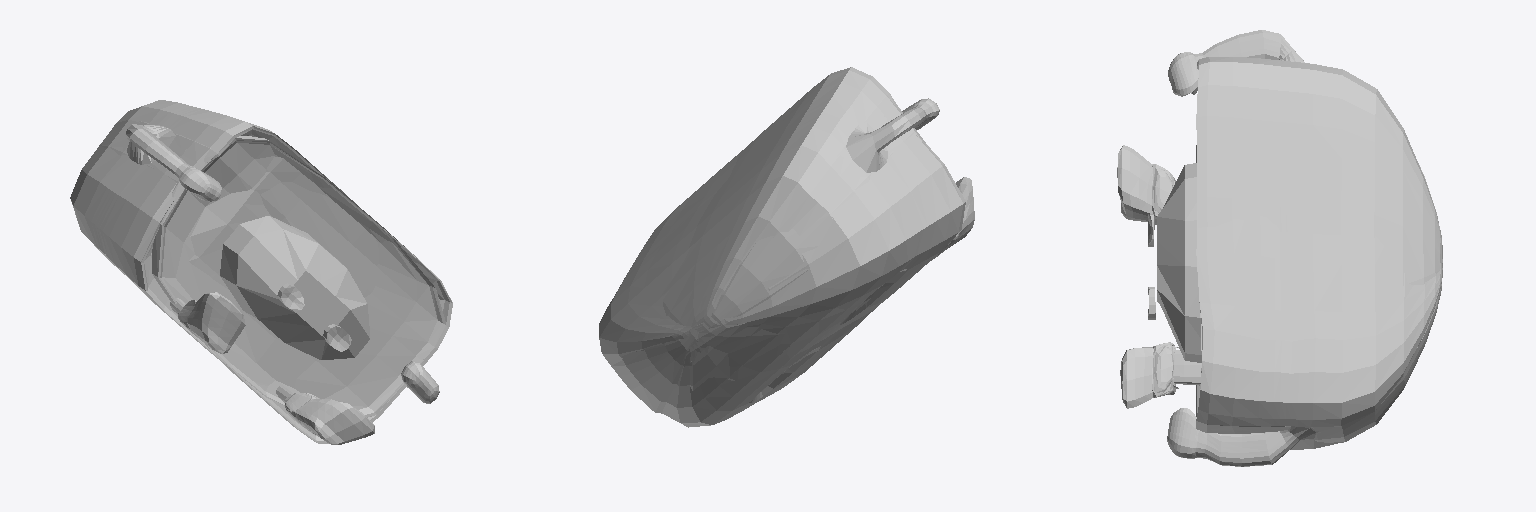
File: Pal_000009.obj
3 renders of one model, left to right at view 1: azimuth 30°, elevation 25°; view 2: azimuth 150°, elevation 25°; view 3: azimuth 270°, elevation 25°, orthographic.
Parts seen in each view (by area): view 1: Cuerpo_de_aguacate_3.001_Cube.002, Hueso_Cubo.003, Ojos_Cubo.002; view 2: Cuerpo_de_aguacate_3.001_Cube.002; view 3: Cuerpo_de_aguacate_3.001_Cube.002, Hueso_Cubo.003.
Boxes of the visible parts, box(x1,y1,x2,y2) form: Cuerpo_de_aguacate_3.001_Cube.002: box(70, 100, 452, 444); Hueso_Cubo.003: box(220, 216, 369, 359); Ojos_Cubo.002: box(277, 283, 351, 351); Cuerpo_de_aguacate_3.001_Cube.002: box(599, 67, 974, 427); Cuerpo_de_aguacate_3.001_Cube.002: box(1117, 30, 1442, 466); Hueso_Cubo.003: box(1157, 163, 1201, 362).
Size of the model in its own units: 1.14 by 1.17 by 1.01.